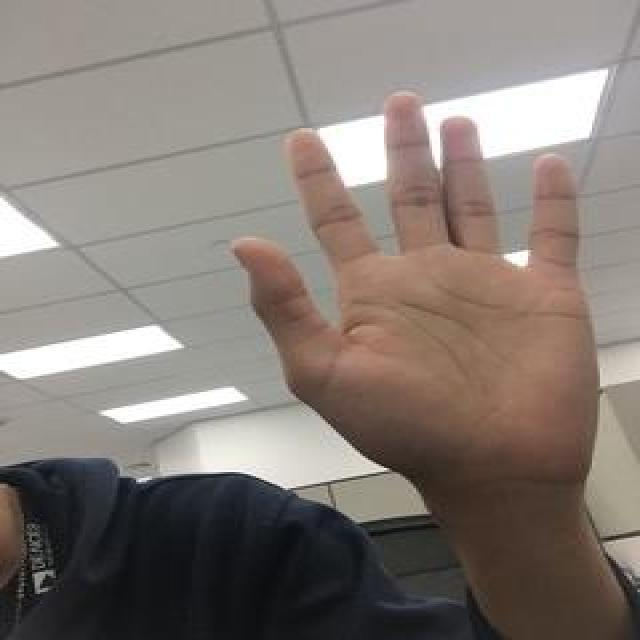hand: (236, 94, 596, 478)
